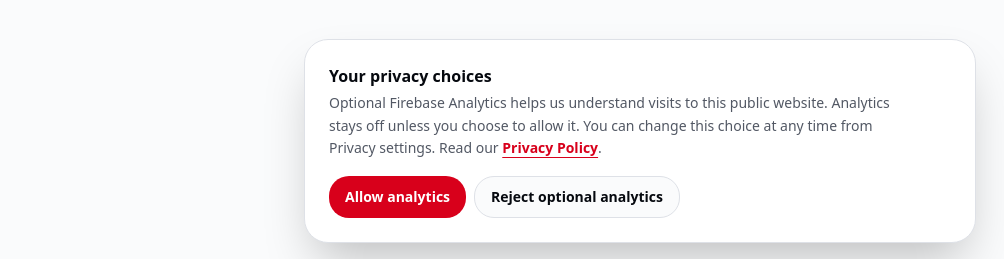
Test: AnalyticsConsentManager › persists rejection and lets the visitor reopen privacy settings
This screenshot has width=1004, height=259.
What coordinates should you click on to do the following:
click the button "Reject optional analytics"
I would click on:
 (577, 197)
Its box is [474, 176, 680, 218].
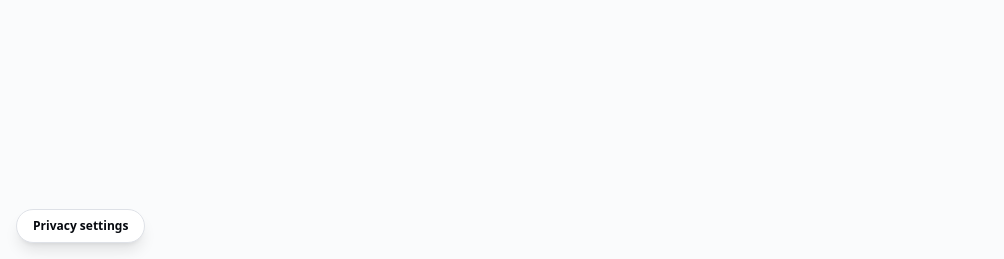
What coordinates should you click on to do the following:
click the button with aria-label "Open privacy settings"
I would click on:
 (81, 226)
Its box is [16, 209, 145, 243].
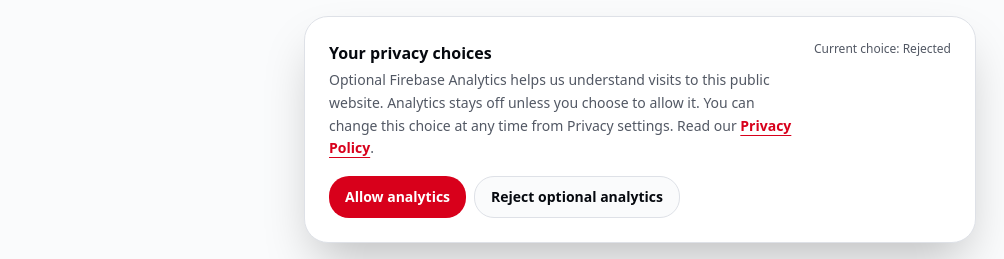
expect the element named "Privacy preferences" is shown: met, box [304, 16, 976, 243]
